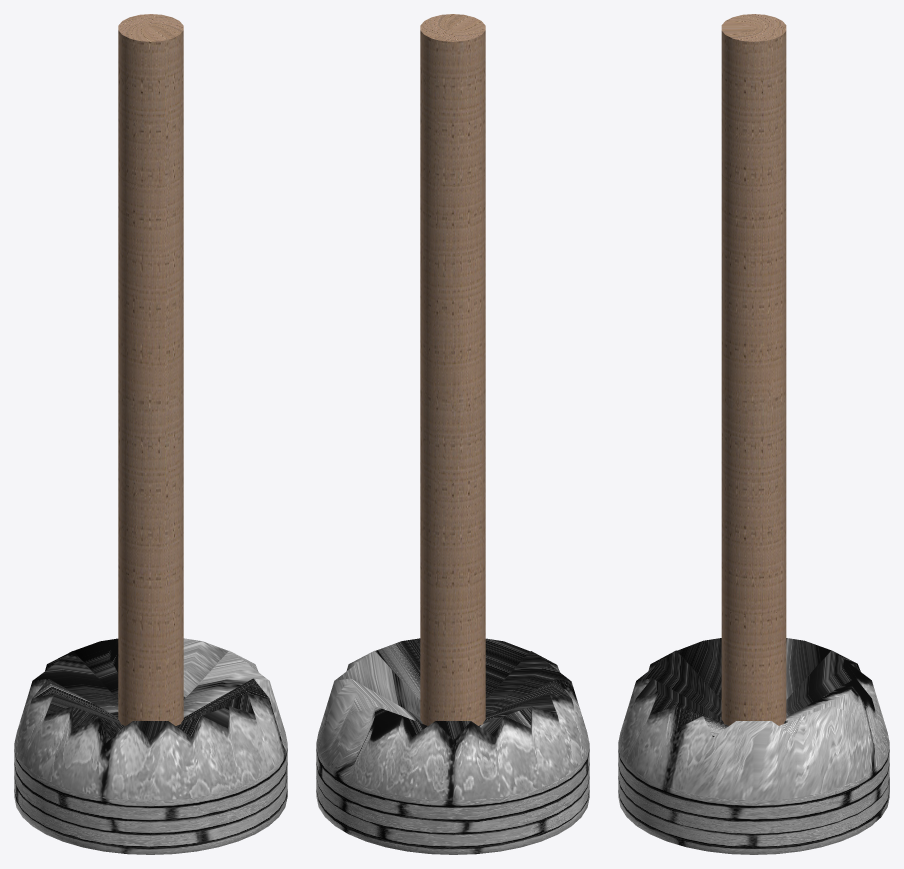
The model's file is GoalPole.fbx.
3 renders of one model, left to right at view 1: azimuth 30°, elevation 25°; view 2: azimuth 150°, elevation 25°; view 3: azimuth 270°, elevation 25°, orthographic.
Visible parts, largest first — view 1: GoalPole; view 2: GoalPole; view 3: GoalPole.
Part boxes in pixels (bbox=[...]): GoalPole: bbox=[14, 14, 287, 854]; GoalPole: bbox=[316, 14, 589, 854]; GoalPole: bbox=[618, 14, 889, 854].
Size of the model in its own units: 20.72 by 64.88 by 20.56.
Materials: 2 (2 with a texture image).
